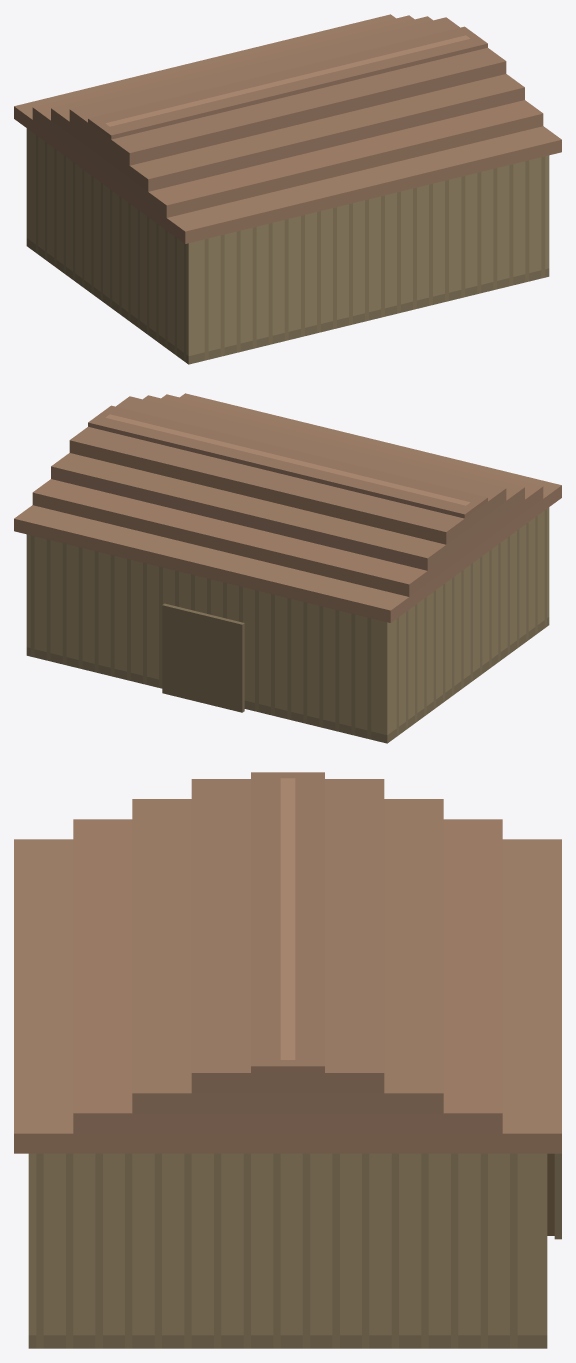
Rendered from establo_02.glb.
The picture shows the model from 3 angles, top to bottom: view 1: azimuth 30°, elevation 25°; view 2: azimuth 150°, elevation 25°; view 3: azimuth 270°, elevation 25°; orthographic projection. The views are drawn at different scales.
Visible parts, largest first — view 1: establo_02; view 2: establo_02; view 3: establo_02.
Part boxes in pixels (bbox=[...]): establo_02: bbox=[14, 14, 561, 364]; establo_02: bbox=[14, 393, 561, 743]; establo_02: bbox=[14, 772, 561, 1348].
Size of the model in its own units: 9.4 by 4.3 by 7.4.
